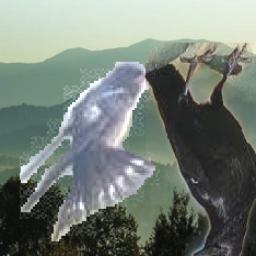Crow: (146, 43, 256, 256)
Swallow: (20, 63, 160, 246)
